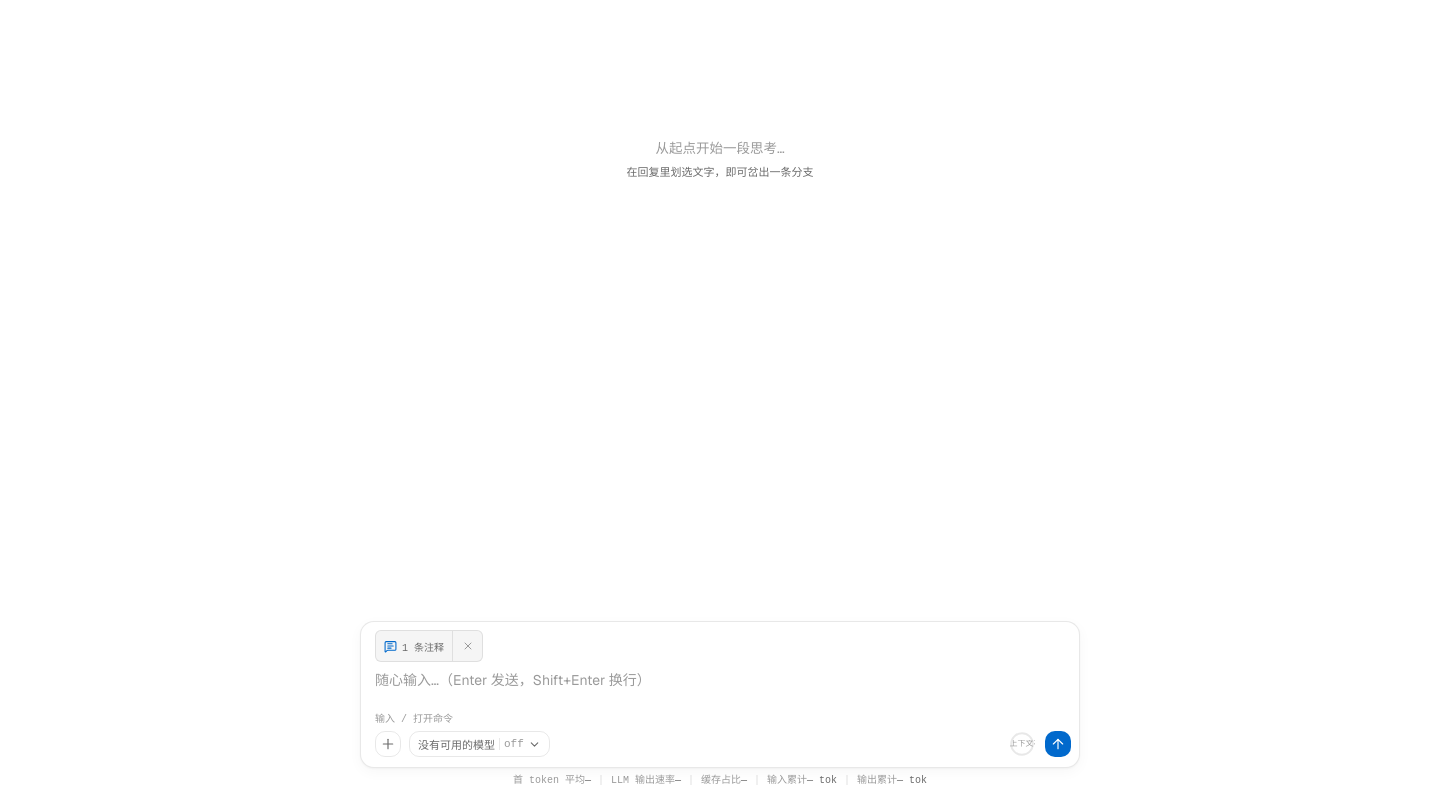
it: ChatView turn and approval controls › keeps pending selection notes isolated per node
This screenshot has width=1440, height=810.
Click the button with aria-label "查看 1 条注释": (414, 646) [376,631,452,661]
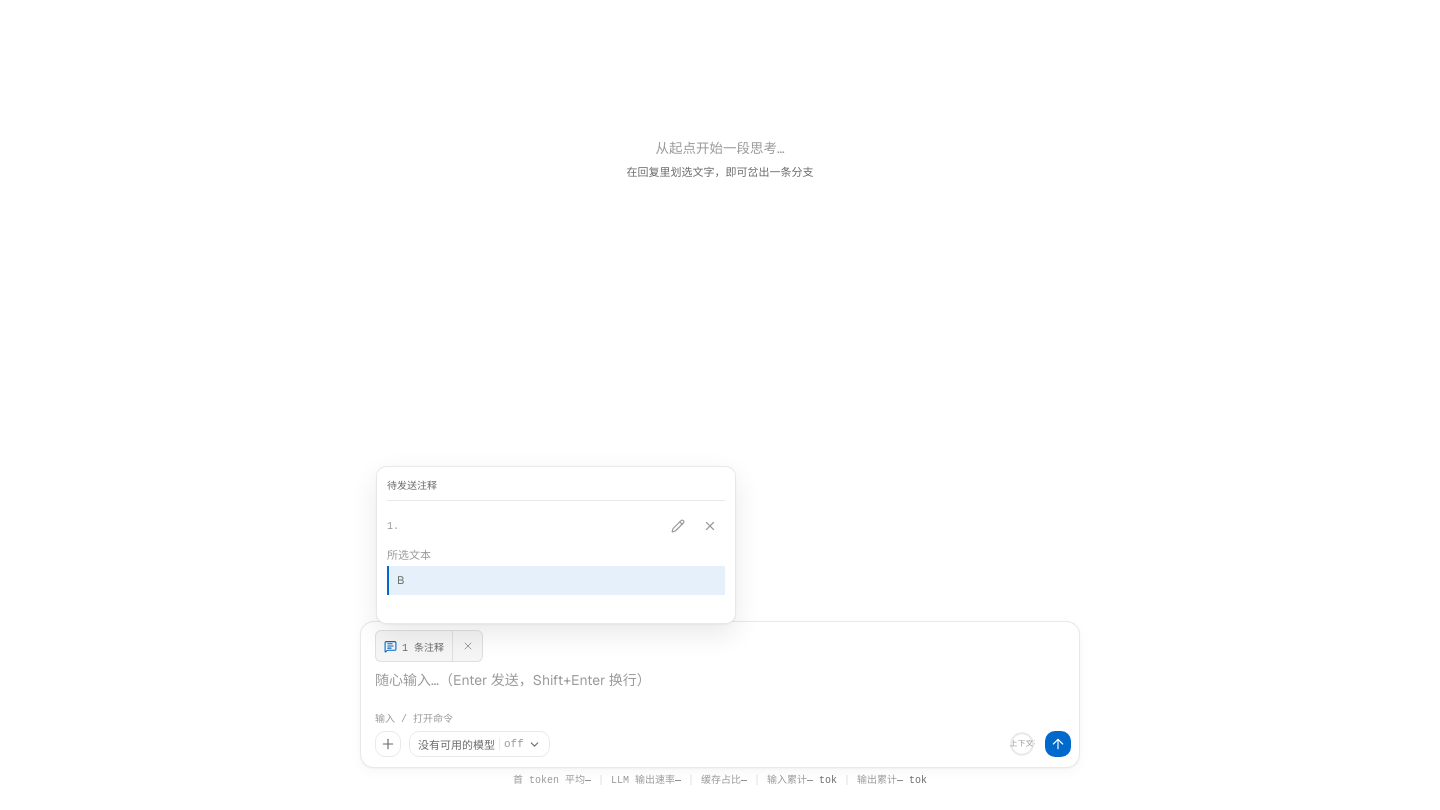
Expected: the text "B" is shown, [387,566,725,594]
